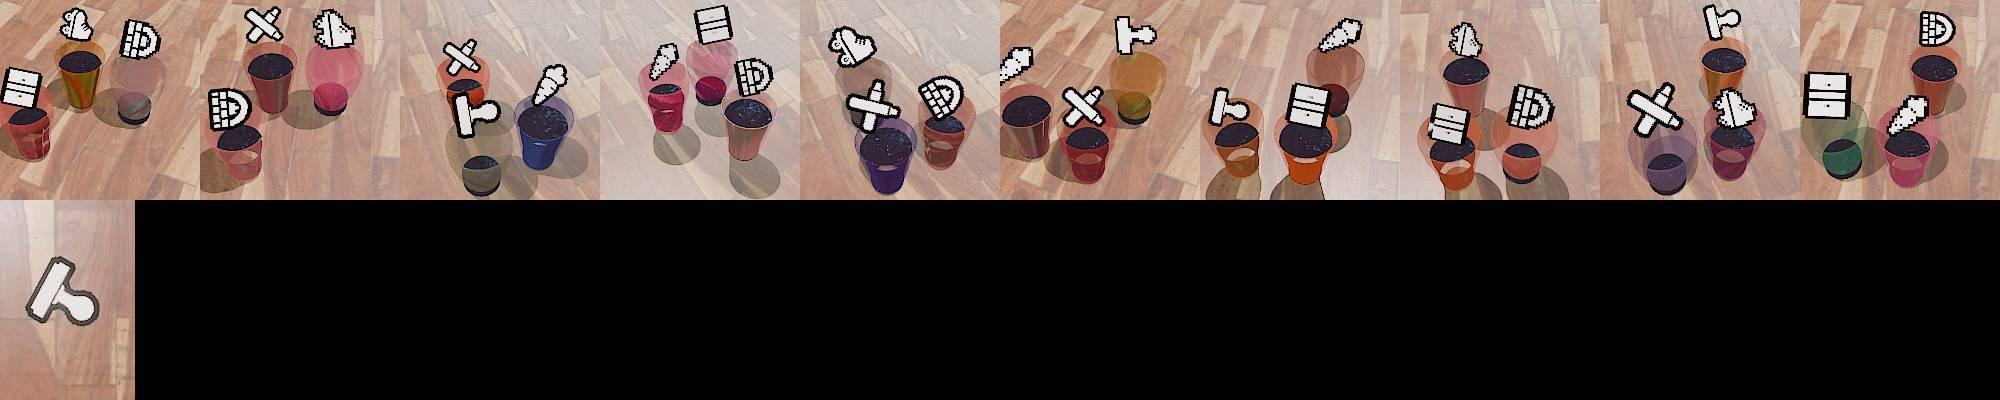icon: (20, 254, 101, 329), (844, 78, 903, 132), (1626, 82, 1684, 136), (1284, 80, 1334, 130), (450, 89, 500, 139), (1804, 70, 1851, 121), (1506, 83, 1556, 130), (828, 25, 878, 69), (918, 75, 964, 120), (1061, 84, 1106, 129), (1712, 87, 1758, 130), (1114, 14, 1158, 57), (208, 87, 251, 131), (1429, 101, 1472, 144), (1886, 93, 1930, 135), (1, 66, 43, 110), (119, 18, 161, 61), (312, 9, 357, 50), (733, 56, 776, 98), (1316, 18, 1364, 55), (693, 4, 733, 46), (1210, 85, 1251, 126), (244, 6, 286, 45), (532, 62, 569, 106), (1702, 3, 1741, 41), (1000, 45, 1036, 85), (443, 38, 480, 75), (1448, 20, 1483, 59), (1918, 11, 1954, 48), (59, 8, 94, 43), (649, 41, 680, 82)
